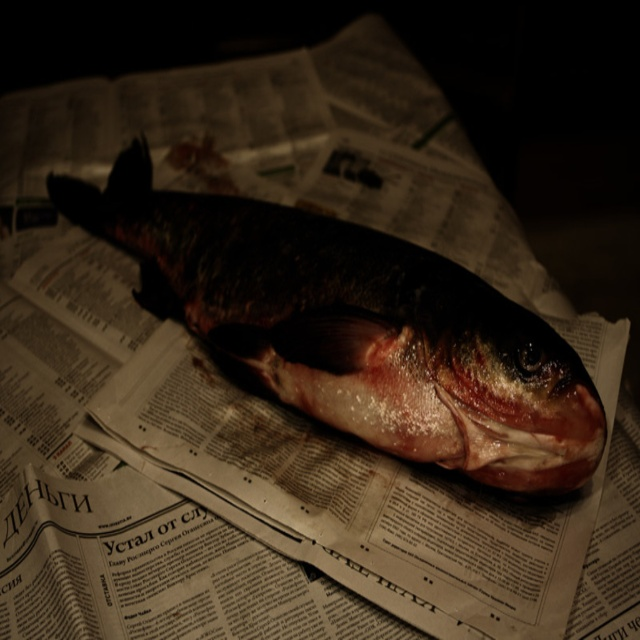Fish: (50, 152, 597, 496)
